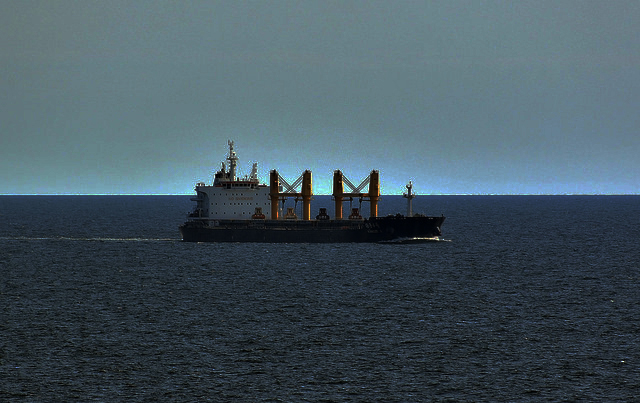bulk carrier: (179, 138, 445, 241)
